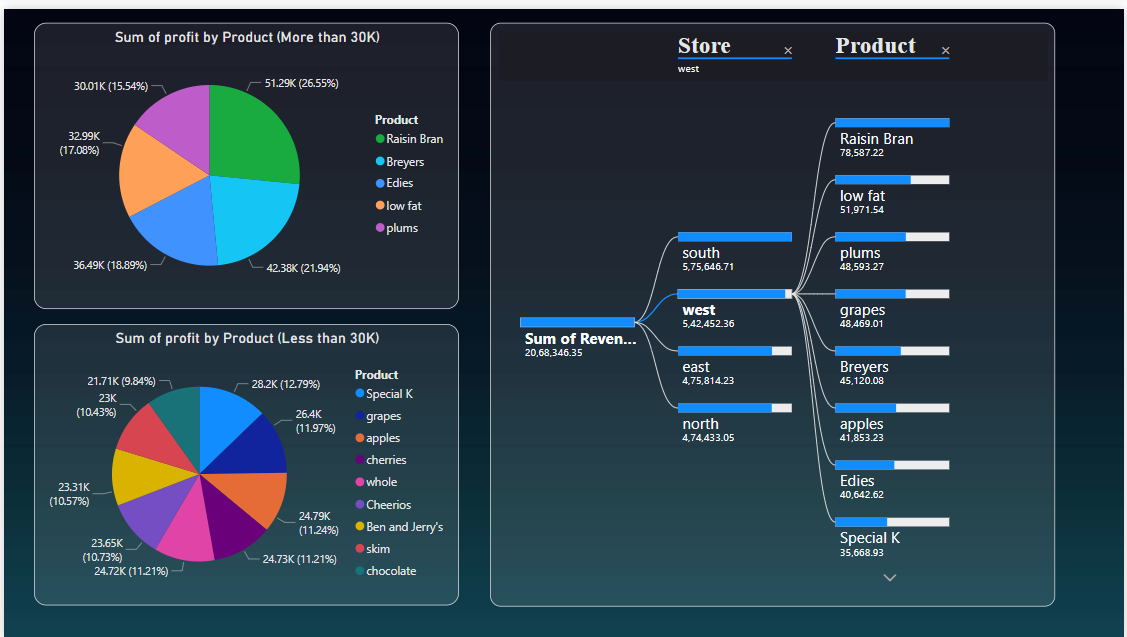

Layout of this report page (visuals, bound fields, positions):
{"tool":"powerbi","page":{"name":"Page 2","canvas":[1280,720],"ordinal":1},"visuals":[{"type":"decompositionTreeVisual","fields":{"Analyze":["Sum(Grocery.Revenue)"],"ExplainBy":["Grocery.Store","Grocery.Product"]},"box":[555.7,15.7,645.7,667.1],"z":0},{"type":"pieChart","title":"Sum of profit by Product (More than 30K)","fields":{"Category":["Grocery.Product"],"Y":["Sum(Grocery.profit)"]},"box":[34.3,15.7,485.7,327.1],"z":1000},{"type":"pieChart","title":"Sum of profit by Product (Less than 30K)","fields":{"Category":["Grocery.Product"],"Y":["Sum(Grocery.profit)"]},"box":[34.3,360,485.7,321.4],"z":2000}]}

Visuals, with their boxes in screenshot pixels (x1, y1, x2, y2), scaled from the page's 1280x720 canvas onto the 1127x637 screenshot:
decompositionTreeVisual - Sum(Grocery.Revenue) x Grocery.Store: x1=489, y1=14, x2=1058, y2=604
"Sum of profit by Product (More than 30K)" pieChart: x1=30, y1=14, x2=458, y2=303
"Sum of profit by Product (Less than 30K)" pieChart: x1=30, y1=318, x2=458, y2=603
